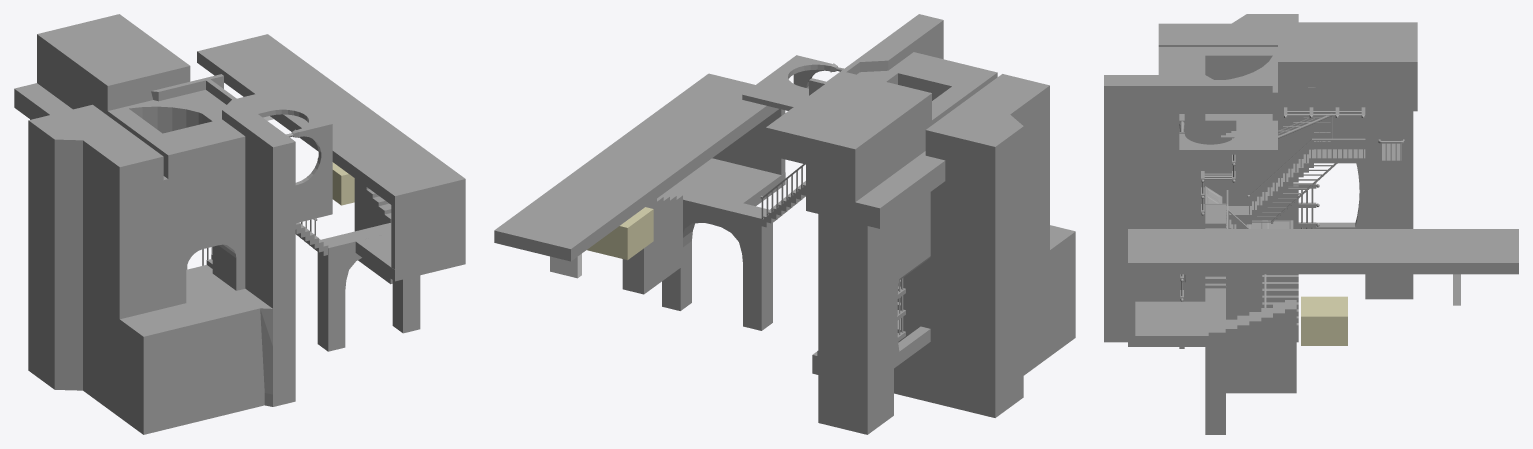
File: level1.fbx
3 views of the same model, side by side, from view 1: azimuth 30°, elevation 25°; view 2: azimuth 150°, elevation 25°; view 3: azimuth 270°, elevation 25° (orthographic). The views are drawn at different scales.
Visible parts, largest first — view 1: Cube.011, pCube3, Circle, pCube1, Plane.001, pCube2, pCube4, pCube9; view 2: Cube.011, pCube3, Circle, Cube.026, pCube1, pCube2, pCube4, Plane.001, Cube.014, pCube9, Cube.027, Rambarde4.002 (+1 smaller); view 3: Cube.011, pCube3, Circle, Cube.026, pCube2, pCube4, pCube1, Plane.001, pCube9, Cube.014, Cube.001, Rambarde3 (+8 smaller).
Boxes of the visible parts, <box> form: Cube.011: <box>28,74,295,434</box>; pCube3: <box>197,34,465,277</box>; Circle: <box>14,14,208,133</box>; pCube1: <box>317,223,420,351</box>; Plane.001: <box>237,87,332,223</box>; pCube2: <box>354,178,392,284</box>; pCube4: <box>355,233,465,281</box>; pCube9: <box>317,158,354,205</box>; Cube.011: <box>809,14,1075,417</box>; pCube3: <box>494,73,785,261</box>; Circle: <box>766,71,945,228</box>; Cube.026: <box>818,214,893,434</box>; pCube1: <box>662,186,772,330</box>; pCube2: <box>622,191,682,294</box>; pCube4: <box>674,158,785,206</box>; Plane.001: <box>742,55,832,110</box>; Cube.014: <box>894,192,930,281</box>; pCube9: <box>587,207,653,259</box>; Cube.027: <box>892,278,930,368</box>; Rambarde4.002: <box>760,164,805,219</box>; Cube.011: <box>1104,14,1308,348</box>; pCube3: <box>1128,229,1518,343</box>; Circle: <box>1219,22,1417,111</box>; Cube.026: <box>1365,111,1413,299</box>; pCube2: <box>1225,300,1296,393</box>; pCube4: <box>1128,301,1208,346</box>; pCube1: <box>1205,288,1225,434</box>; Plane.001: <box>1179,120,1277,228</box>; pCube9: <box>1301,296,1347,345</box>; Cube.014: <box>1309,112,1365,149</box>; Cube.001: <box>1262,274,1298,329</box>; Rambarde3: <box>1247,138,1365,214</box>.
Size of the model in its own units: 133 by 102 by 136.
